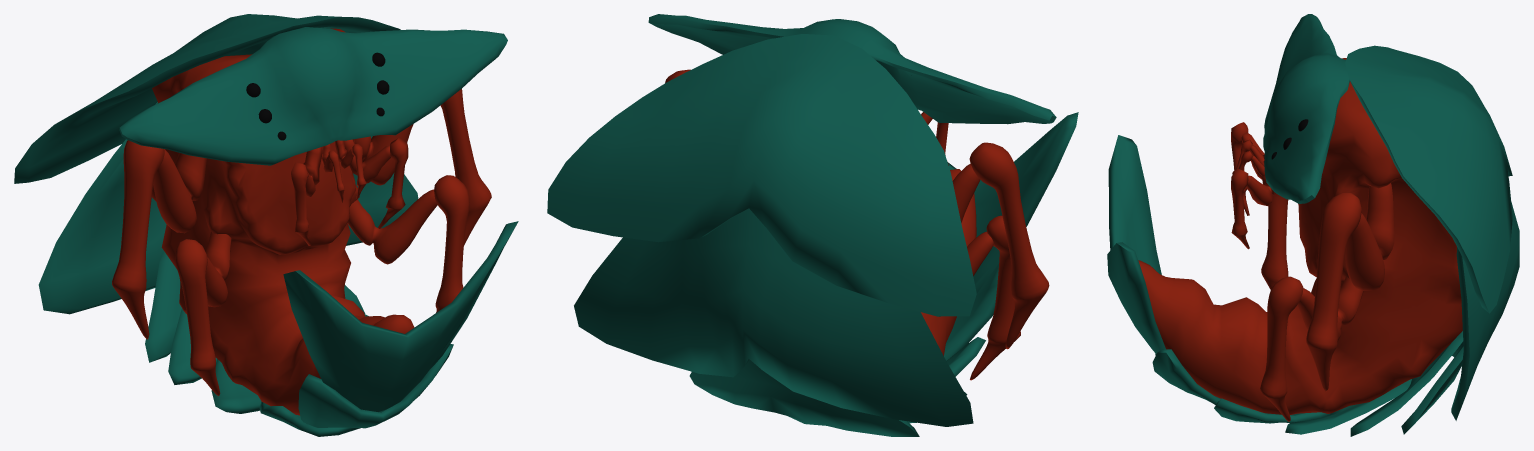
The model's file is Alien_Scolitex.obj.
3 renders of one model, left to right at view 1: azimuth 30°, elevation 25°; view 2: azimuth 150°, elevation 25°; view 3: azimuth 270°, elevation 25°, orthographic. The views are drawn at different scales.
Visible parts, largest first — view 1: Shell, Head, Body, Claws; view 2: Shell, Head, Claws, Body; view 3: Shell, Body, Claws, Head.
Boxes of the visible parts, x1,y1,x2,y2 form: Shell: (14,14,518,436); Head: (119,27,507,165); Body: (151,28,414,415); Claws: (112,89,491,395); Shell: (547,34,1078,436); Head: (648,14,1056,124); Claws: (665,69,1049,380); Body: (921,169,976,355); Shell: (1107,45,1519,436); Body: (1138,81,1462,414); Claws: (1231,58,1394,421); Head: (1263,14,1349,203).
Bounding box in the file's own units: 3.29 × 2.86 × 2.98.
